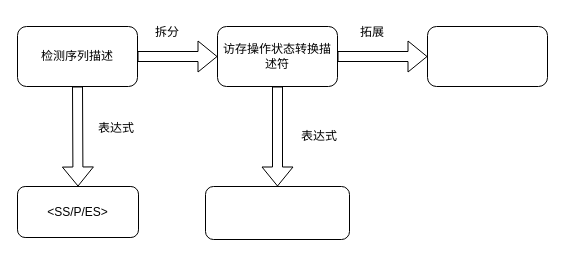
This 565x259 diagram has some shape labels left out. The shapes that lost their labels are listed below. From the top down, each one's box as (x1, y1, x2, y2) in pixels, then its label:
(426, 26, 548, 86): 最简检测序列
(204, 186, 350, 240): <LAS/CAS/HAS>a o1<LAS/CAS/HAS>
